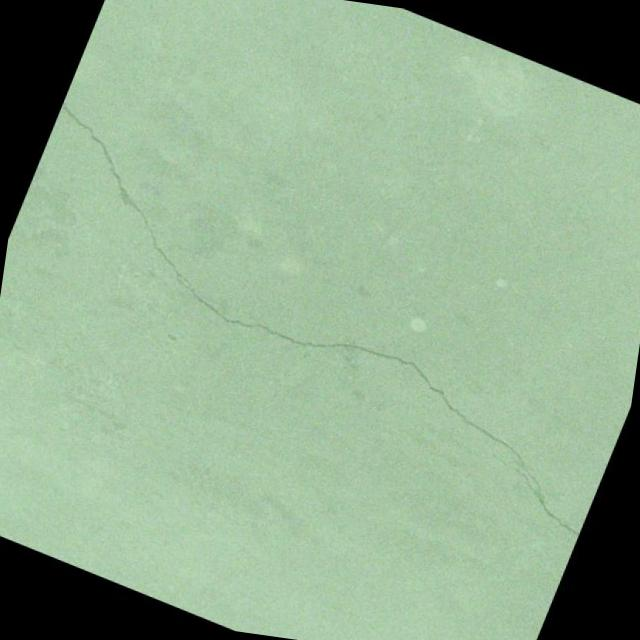crack: (0, 96, 640, 541)
